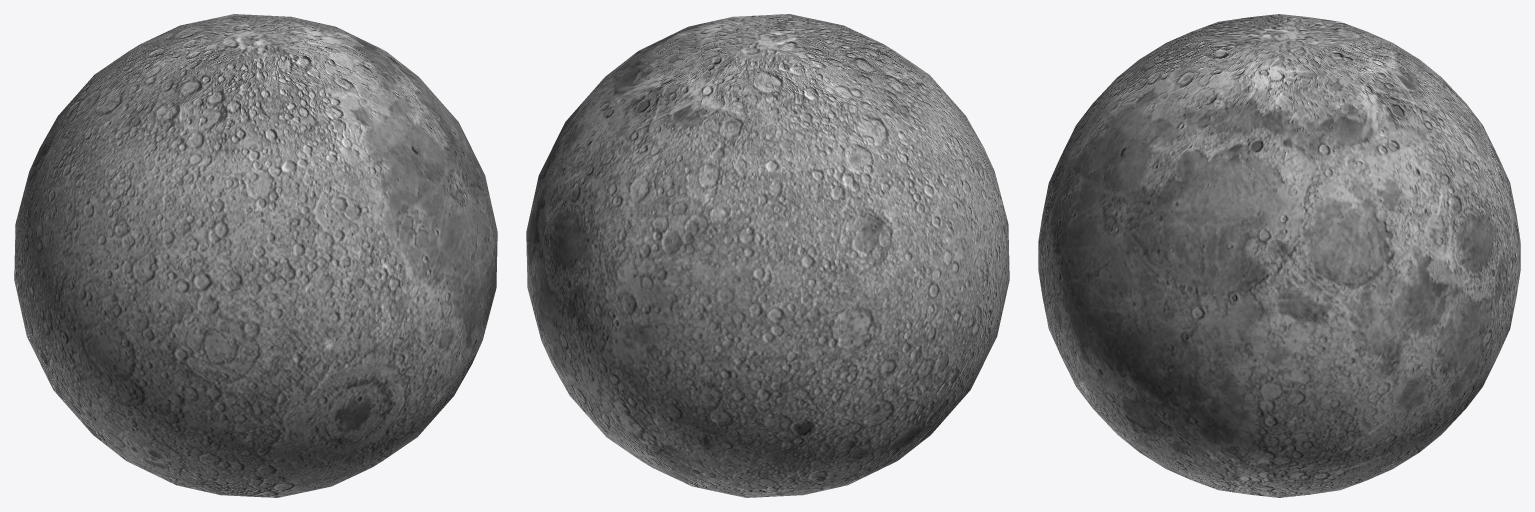
The model's file is Moon.fbx.
3 views of the same model, side by side, from view 1: azimuth 30°, elevation 25°; view 2: azimuth 150°, elevation 25°; view 3: azimuth 270°, elevation 25° (orthographic).
Parts seen in each view (by area): view 1: LowPoly_Moon; view 2: LowPoly_Moon; view 3: LowPoly_Moon.
Boxes of the visible parts, x1=… form: LowPoly_Moon: x1=14, y1=14, x2=497, y2=497; LowPoly_Moon: x1=526, y1=14, x2=1009, y2=497; LowPoly_Moon: x1=1038, y1=14, x2=1520, y2=497.
Bounding box in the file's own units: 78.72 × 79.1 × 78.61.
